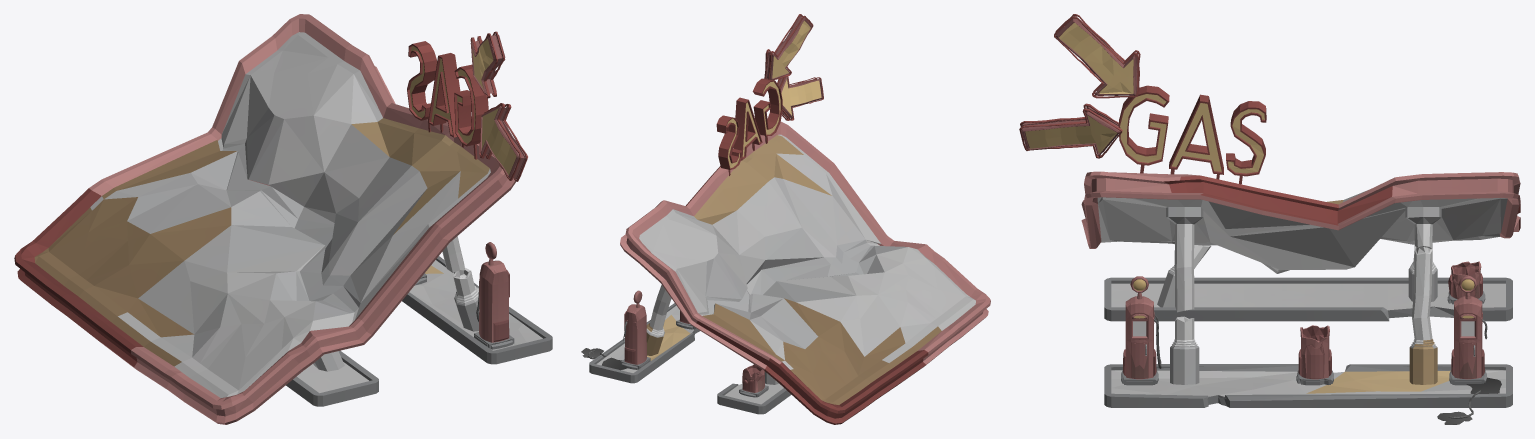
The model's file is gas_station_annex_1.obj.
3 views of the same model, side by side, from view 1: azimuth 30°, elevation 25°; view 2: azimuth 150°, elevation 25°; view 3: azimuth 270°, elevation 25° (orthographic). The views are drawn at different scales.
Parts seen in each view (by area): view 1: gas_Station_annex_roof_Mesh, banner_Mesh, gas_Station_annex_platform_1_Mesh, gas_Station_annex_platform_2_Mesh, gas_pump_3_Mesh; view 2: gas_Station_annex_roof_Mesh, banner_Mesh, gas_Station_annex_platform_1_Mesh, gas_pump_1_Mesh, gas_Station_annex_platform_2_Mesh, gas_pump_4_Mesh; view 3: gas_Station_annex_roof_Mesh, gas_Station_annex_platform_2_Mesh, gas_Station_annex_platform_1_Mesh, banner_Mesh, gas_pump_1_Mesh, gas_pump_3_Mesh, gas_pump_2_Mesh, gas_pump_4_Mesh.
Boxes of the visible parts, bbox=[...] form: gas_Station_annex_roof_Mesh: bbox=[14, 14, 515, 424]; banner_Mesh: bbox=[407, 31, 527, 181]; gas_Station_annex_platform_1_Mesh: bbox=[402, 256, 552, 364]; gas_Station_annex_platform_2_Mesh: bbox=[286, 350, 378, 406]; gas_pump_3_Mesh: bbox=[474, 242, 514, 349]; gas_Station_annex_roof_Mesh: bbox=[620, 121, 990, 424]; banner_Mesh: bbox=[716, 14, 823, 175]; gas_Station_annex_platform_1_Mesh: bbox=[589, 303, 699, 383]; gas_pump_1_Mesh: bbox=[601, 290, 650, 370]; gas_Station_annex_platform_2_Mesh: bbox=[717, 371, 791, 414]; gas_pump_4_Mesh: bbox=[739, 364, 768, 397]; gas_Station_annex_roof_Mesh: bbox=[1081, 171, 1520, 384]; gas_Station_annex_platform_2_Mesh: bbox=[1104, 243, 1512, 321]; gas_Station_annex_platform_1_Mesh: bbox=[1104, 364, 1512, 407]; banner_Mesh: bbox=[1019, 14, 1266, 184]; gas_pump_1_Mesh: bbox=[1449, 276, 1501, 393]; gas_pump_3_Mesh: bbox=[1121, 276, 1161, 385]; gas_pump_2_Mesh: bbox=[1296, 325, 1333, 385]; gas_pump_4_Mesh: bbox=[1447, 261, 1485, 304].
Size of the model in its own units: 10.91 by 9.51 by 12.2.
